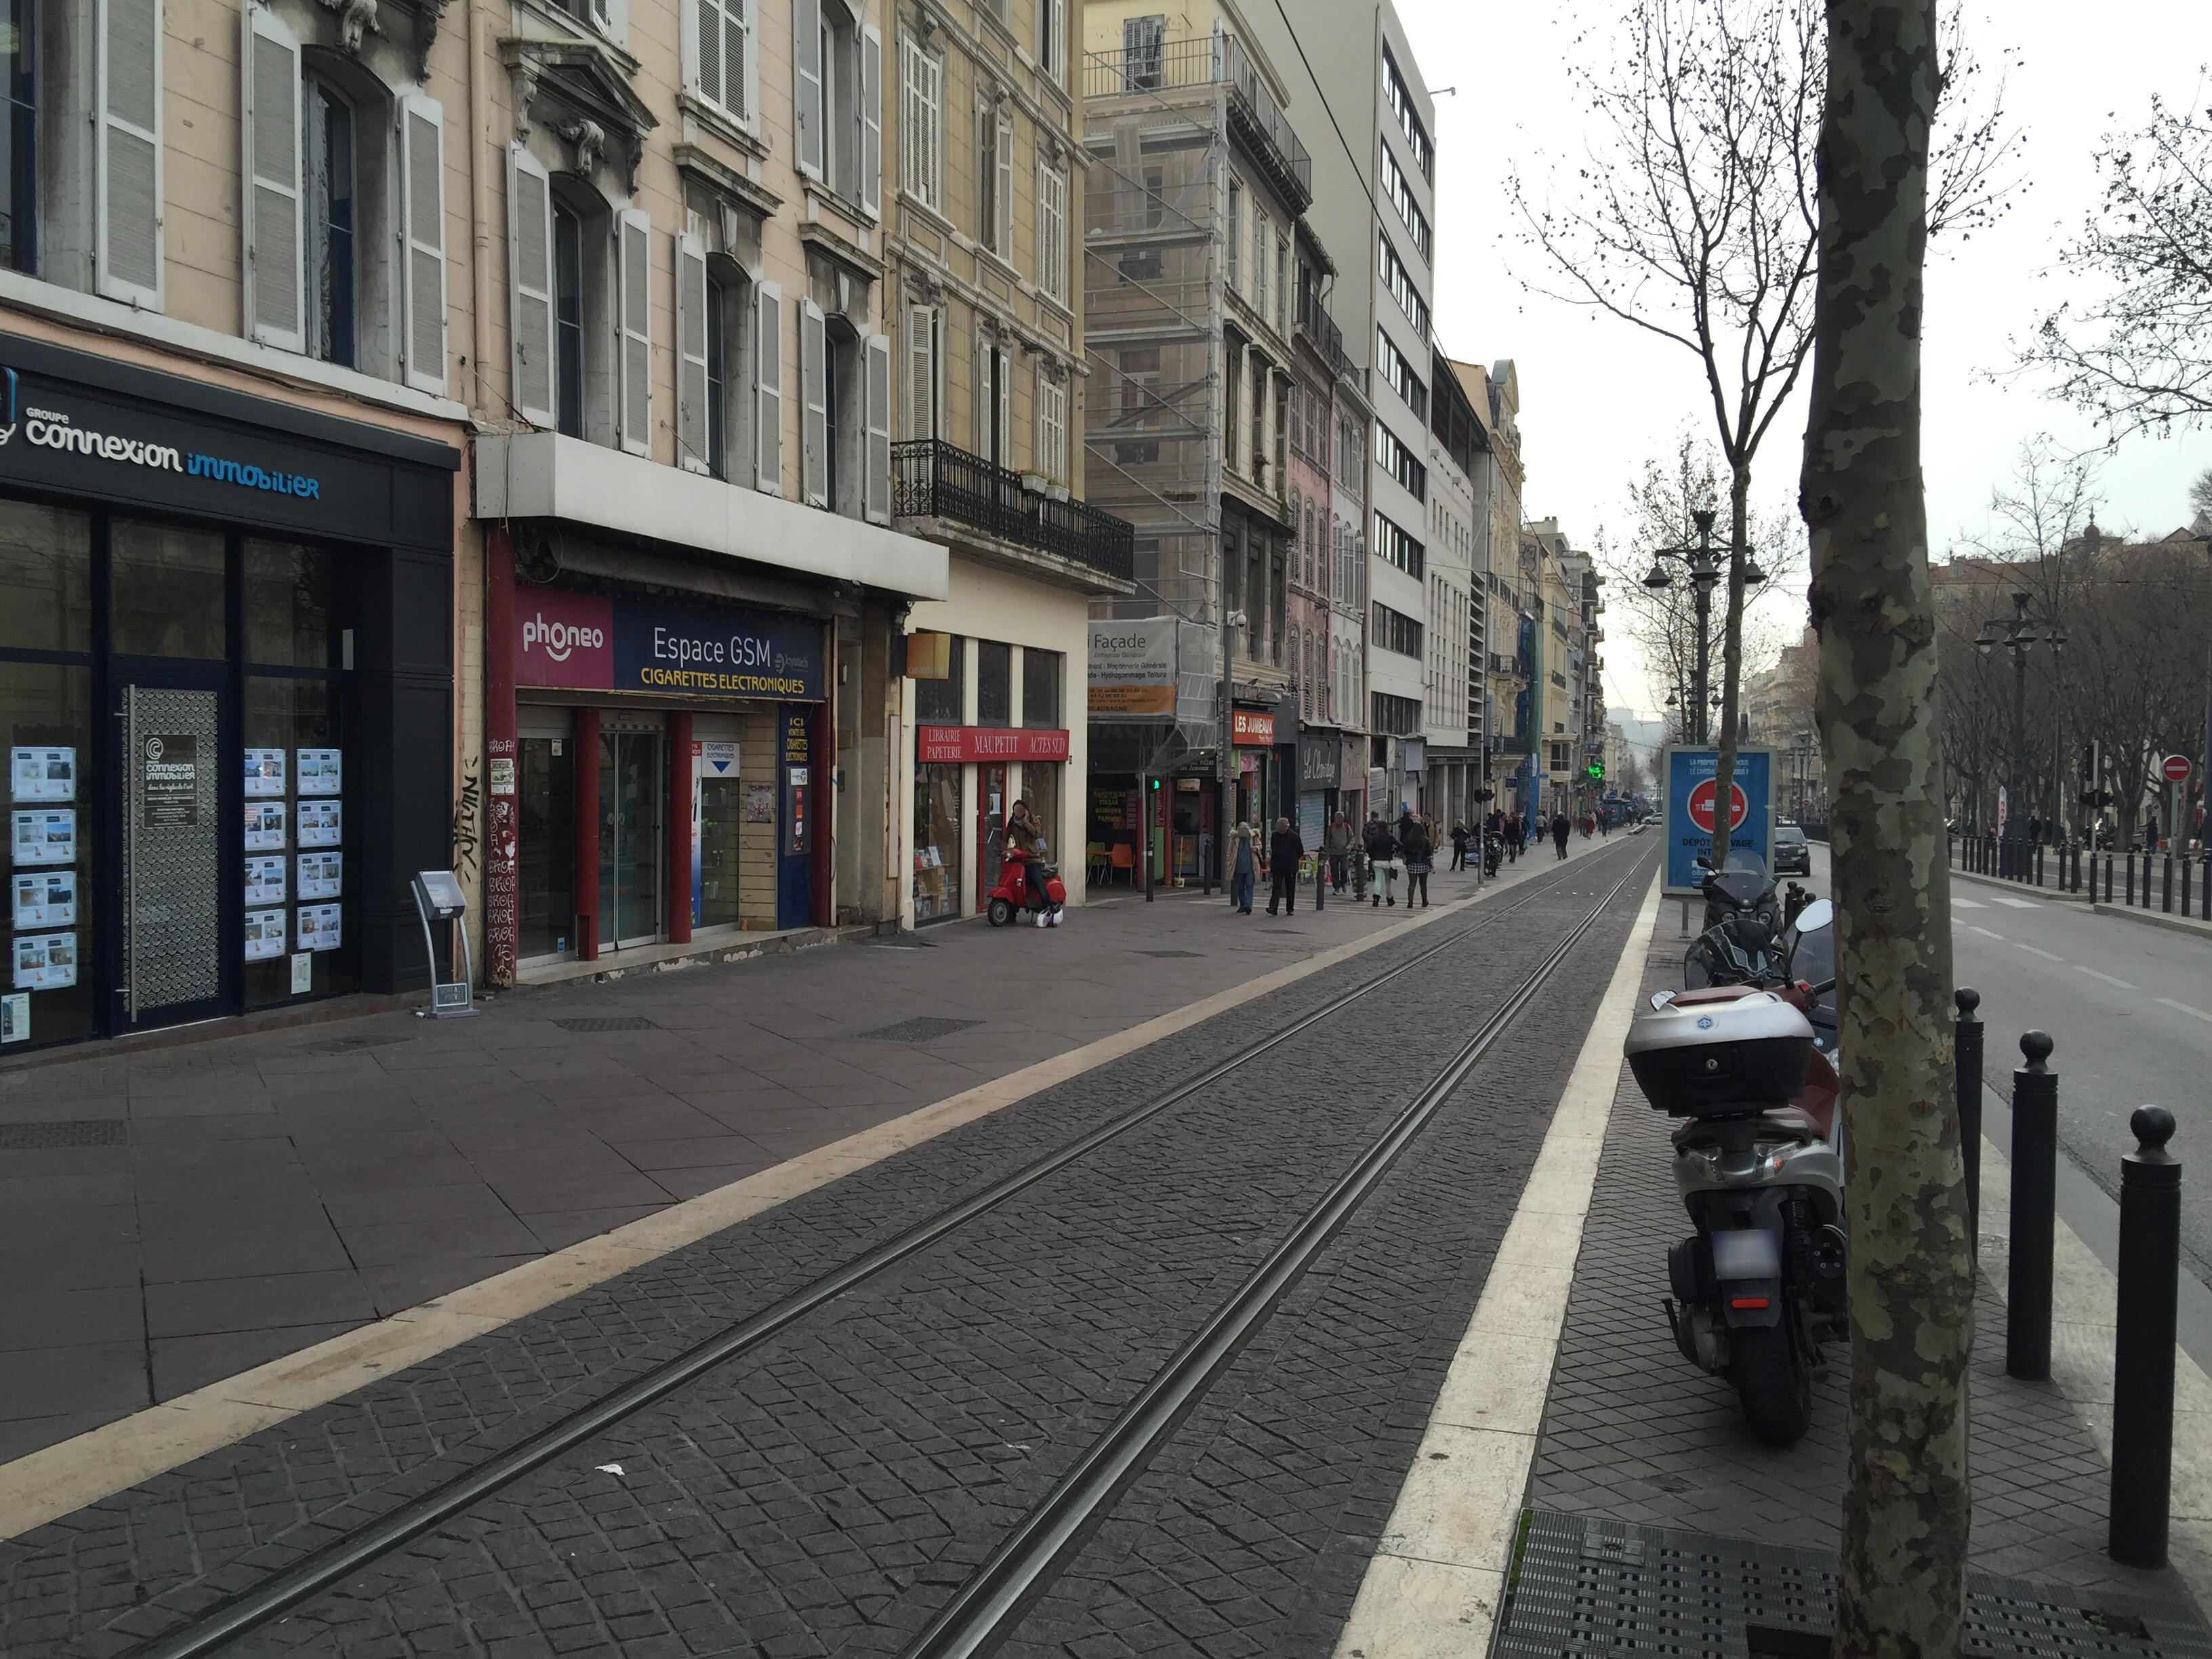vinyl banner: (1087, 617, 1183, 735)
